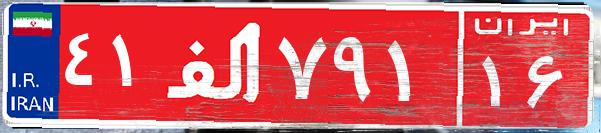1: (385, 28, 445, 110), (475, 38, 525, 113), (110, 28, 158, 105)
4: (57, 26, 110, 107)
6: (525, 38, 570, 115)
7: (273, 28, 330, 110)
9: (330, 28, 385, 110)
الف: (158, 15, 273, 115)
